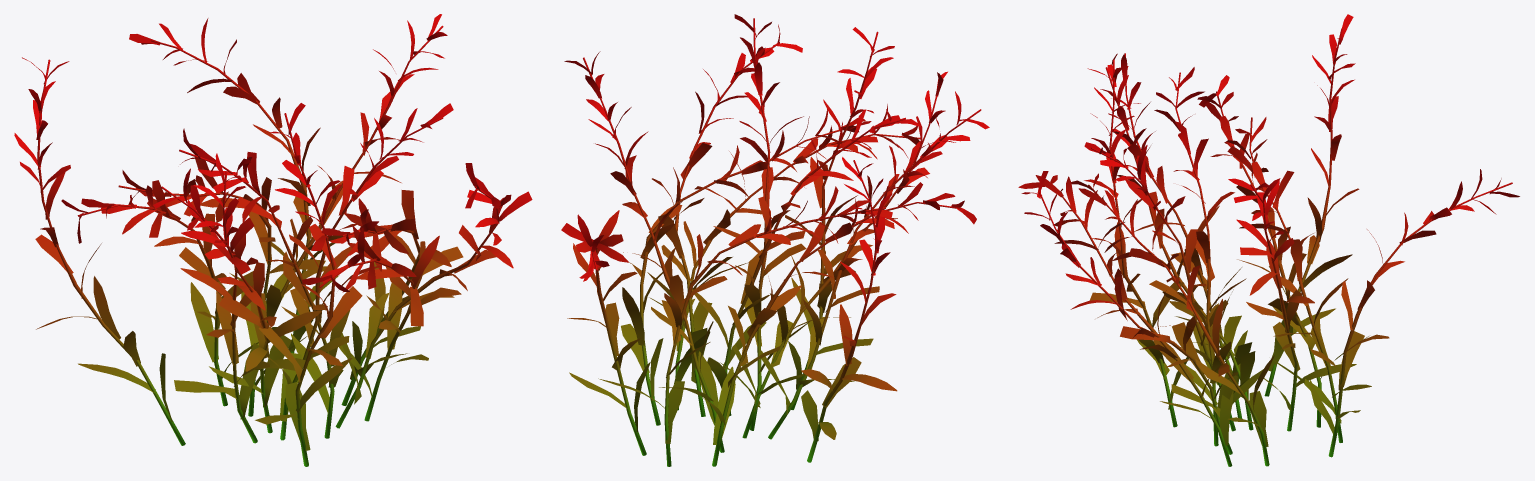
The model's file is Var10_LOD1.fbx.
The picture shows the model from 3 angles, left to right: view 1: azimuth 30°, elevation 25°; view 2: azimuth 150°, elevation 25°; view 3: azimuth 270°, elevation 25°; orthographic projection. The views are drawn at different scales.
Visible parts, largest first — view 1: _6as2_Var10_LOD1; view 2: _6as2_Var10_LOD1; view 3: _6as2_Var10_LOD1.
Part boxes in pixels (x1,y1,x2,y2): _6as2_Var10_LOD1: (14,14,532,466); _6as2_Var10_LOD1: (561,14,989,466); _6as2_Var10_LOD1: (1018,14,1519,466).
Size of the model in its own units: 26.17 by 24.37 by 32.16.
